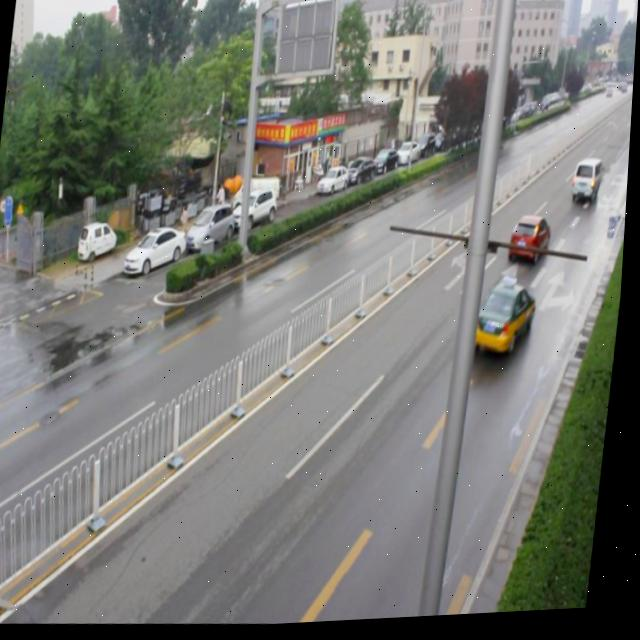car: (475, 275, 540, 368), (507, 216, 554, 269)
truck: (571, 161, 603, 212)
